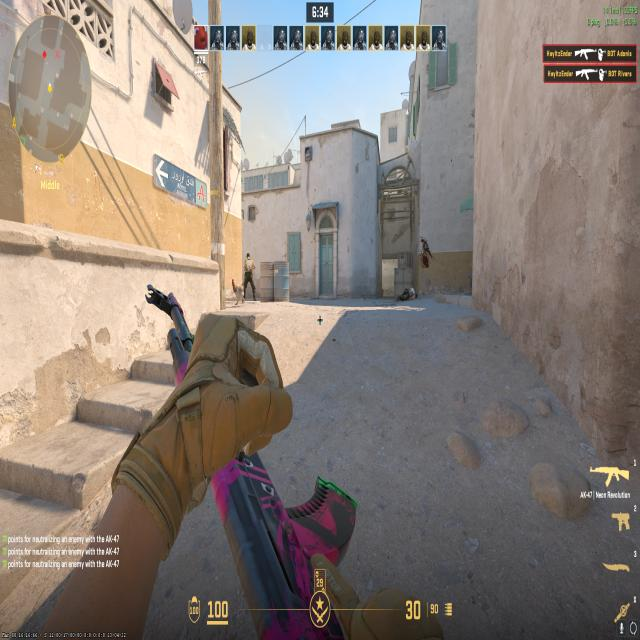t: (241, 247, 257, 301)
